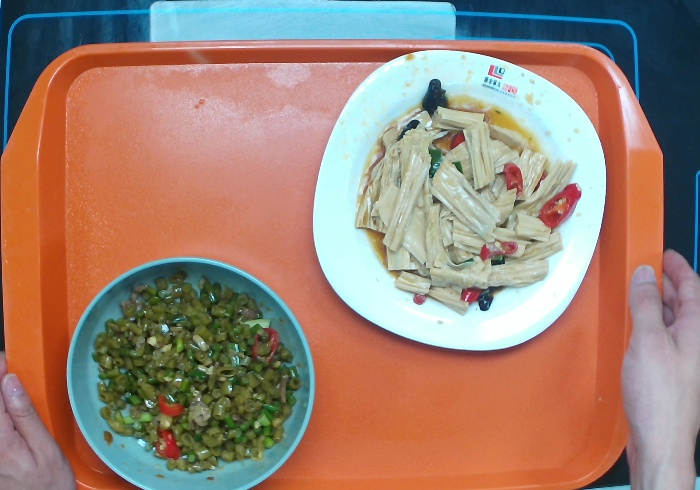ZNLD-Qing_Hua_Yuan_Wan: (57, 253, 322, 490)
ZNLD-Yuan_Jiao_Pan: (308, 46, 610, 354)
